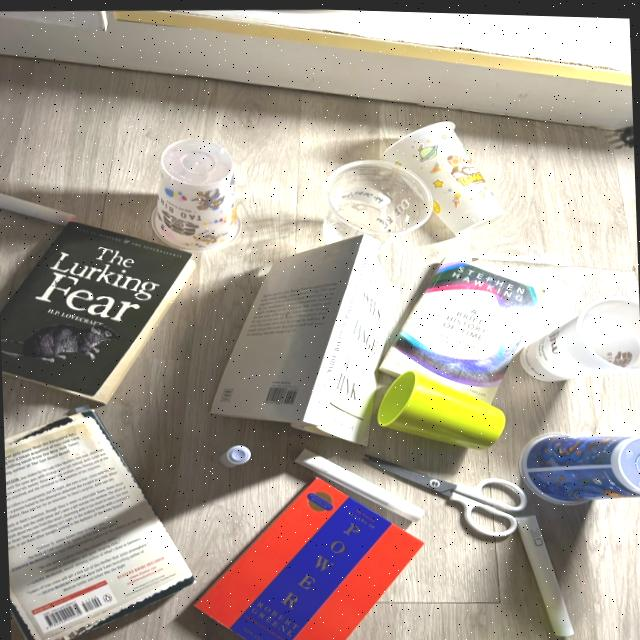Book: (4, 411, 193, 640), (195, 476, 422, 640), (0, 221, 195, 406), (212, 235, 366, 422), (380, 257, 544, 399), (293, 240, 402, 443)
HighLight Pen: (295, 447, 423, 518), (517, 513, 573, 633), (0, 193, 74, 225), (219, 444, 250, 466)
Plastic Cup: (382, 118, 502, 232), (520, 292, 640, 378), (152, 138, 239, 252), (323, 158, 431, 242), (519, 430, 640, 501)
Scissors: (359, 454, 527, 533)
WaterGlass: (377, 367, 505, 446)
